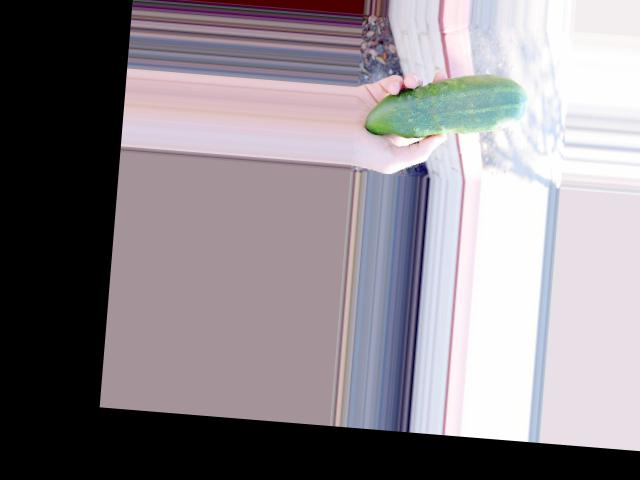cucumber: (365, 63, 529, 146)
